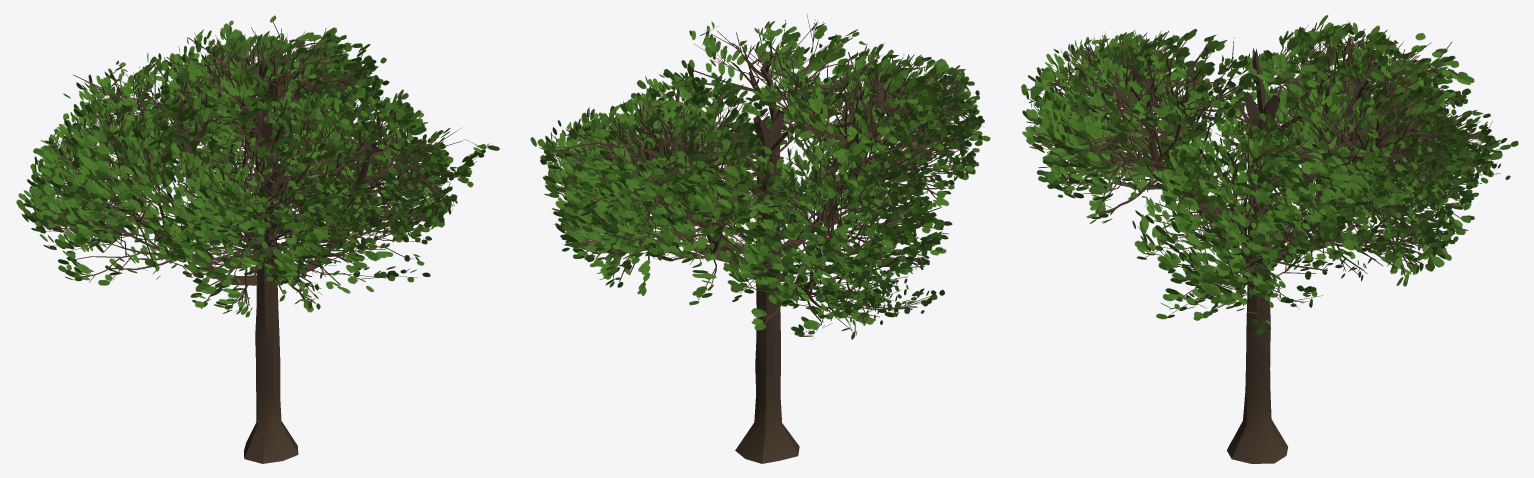
The picture shows the model from 3 angles, left to right: view 1: azimuth 30°, elevation 25°; view 2: azimuth 150°, elevation 25°; view 3: azimuth 270°, elevation 25°; orthographic projection. The views are drawn at different scales.
Parts seen in each view (by area): view 1: oak 01.001_trunk_Mat.001_0.155; view 2: oak 01.001_trunk_Mat.001_0.155; view 3: oak 01.001_trunk_Mat.001_0.155.
Part boxes in pixels (left/top/right/bottom): oak 01.001_trunk_Mat.001_0.155: left=16, top=15, right=499, bottom=463; oak 01.001_trunk_Mat.001_0.155: left=530, top=14, right=990, bottom=463; oak 01.001_trunk_Mat.001_0.155: left=1021, top=15, right=1518, bottom=463.
Bounding box in the file's own units: 4.71 × 4.23 × 5.14.
2 materials, 1 textured.
